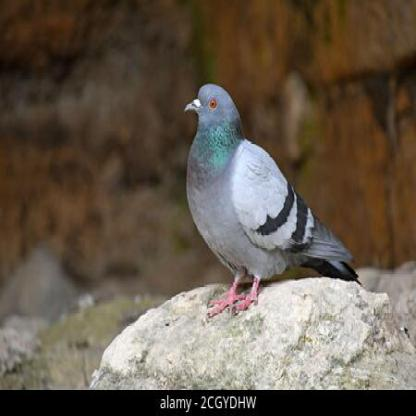Rock Pigeon: (182, 83, 357, 284)
